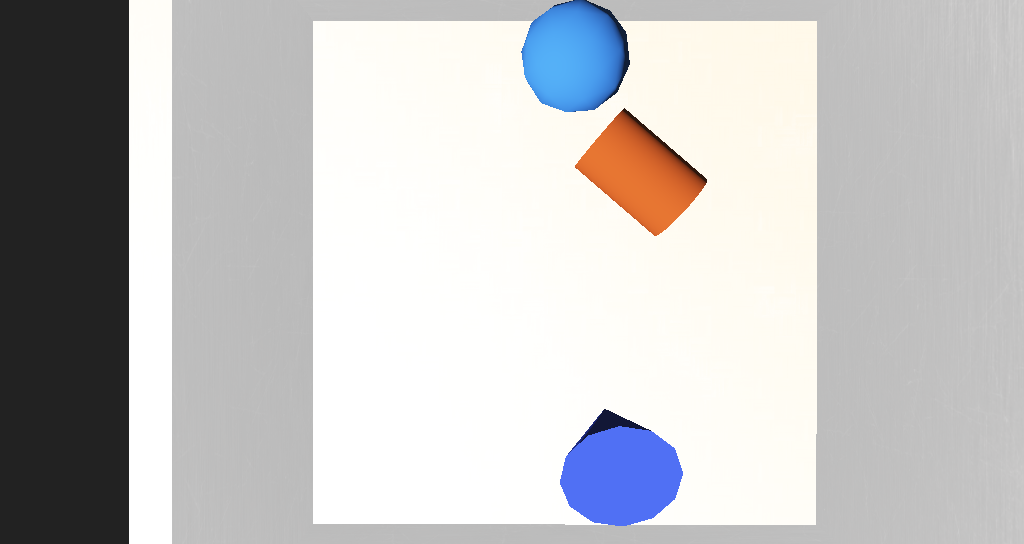cone: (515, 196, 589, 253)
cylinder: (499, 305, 566, 372)
sphere: (482, 160, 542, 203)
